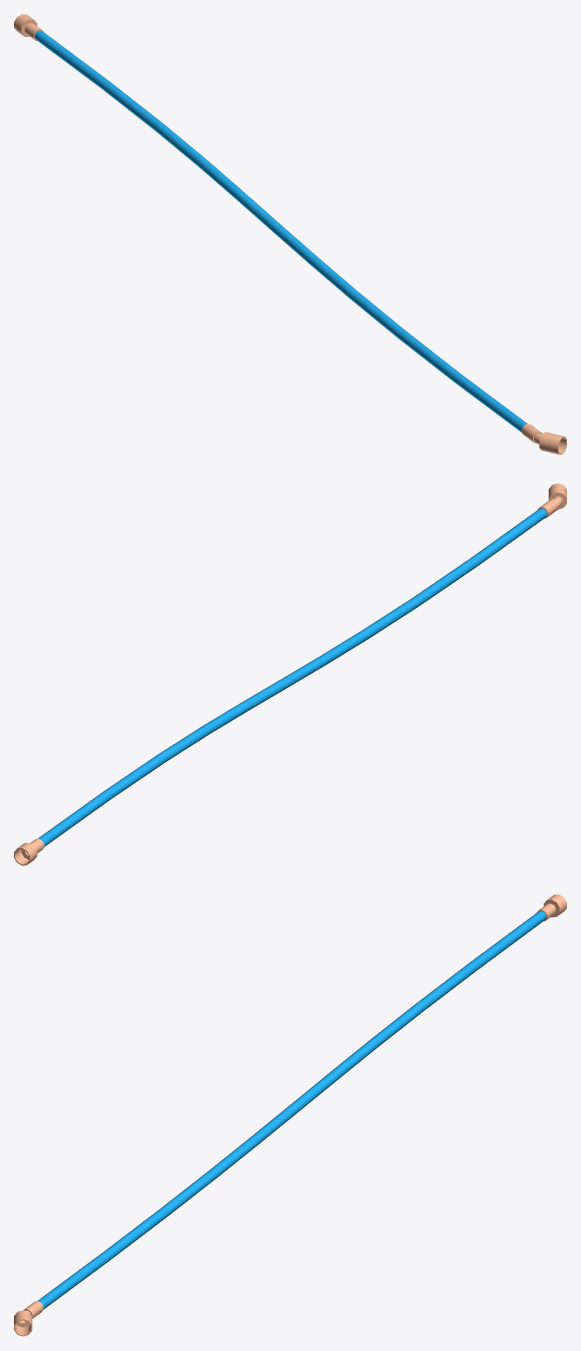
File: wire_blue.glb
3 views of the same model, one above another, from view 1: azimuth 30°, elevation 25°; view 2: azimuth 150°, elevation 25°; view 3: azimuth 330°, elevation 25° (orthographic).
Visible parts, largest first — view 1: wb_03, nb_1, wb_10, wb_04, wb_09, wb_05, wb_06, wb_08, wb_07; view 2: wb_03, wb_10, wb_04, wb_09, wb_05, nb_1, nb_2, wb_06, wb_08, wb_07, wb_02, wb_01 (+1 smaller); view 3: wb_03, wb_10, wb_04, wb_09, nb_1, wb_05, wb_06, wb_08, wb_07.
Boxes of the visible parts, <box> form: wb_03: <box>396,329,460,381</box>; nb_1: <box>521,424,566,454</box>; wb_10: <box>102,81,161,130</box>; wb_04: <box>349,290,404,337</box>; wb_09: <box>155,122,204,166</box>; wb_05: <box>309,255,356,298</box>; wb_06: <box>271,222,315,263</box>; wb_08: <box>198,158,242,198</box>; wb_07: <box>235,190,278,230</box>; wb_03: <box>413,558,477,605</box>; wb_10: <box>104,754,165,799</box>; wb_04: <box>364,597,419,637</box>; wb_09: <box>158,725,210,762</box>; wb_05: <box>321,629,370,664</box>; nb_1: <box>537,483,566,518</box>; nb_2: <box>14,838,44,865</box>; wb_06: <box>281,655,327,687</box>; wb_08: <box>203,701,249,734</box>; wb_07: <box>243,679,287,710</box>; wb_02: <box>470,533,512,566</box>; wb_01: <box>505,508,547,541</box>; wb_03: <box>105,1206,169,1259</box>; wb_10: <box>417,961,478,1011</box>; wb_04: <box>163,1168,218,1215</box>; wb_09: <box>372,1002,424,1045</box>; nb_1: <box>14,1301,43,1336</box>; wb_05: <box>211,1134,261,1176</box>; wb_06: <box>254,1101,301,1142</box>; wb_08: <box>333,1038,379,1078</box>; wb_07: <box>294,1070,340,1109</box>.
Bounding box in the file's own units: 0.0222 × 0.0436 × 0.9029.
Materials: 2 (2 with a texture image).
